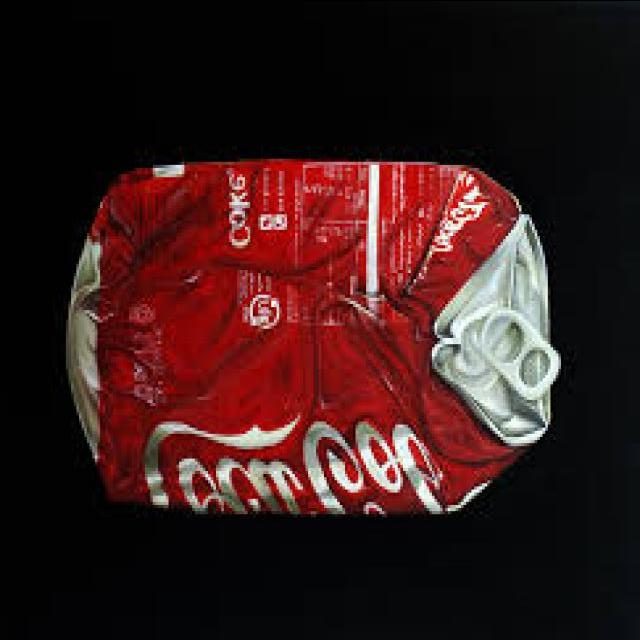can: (66, 160, 564, 522)
